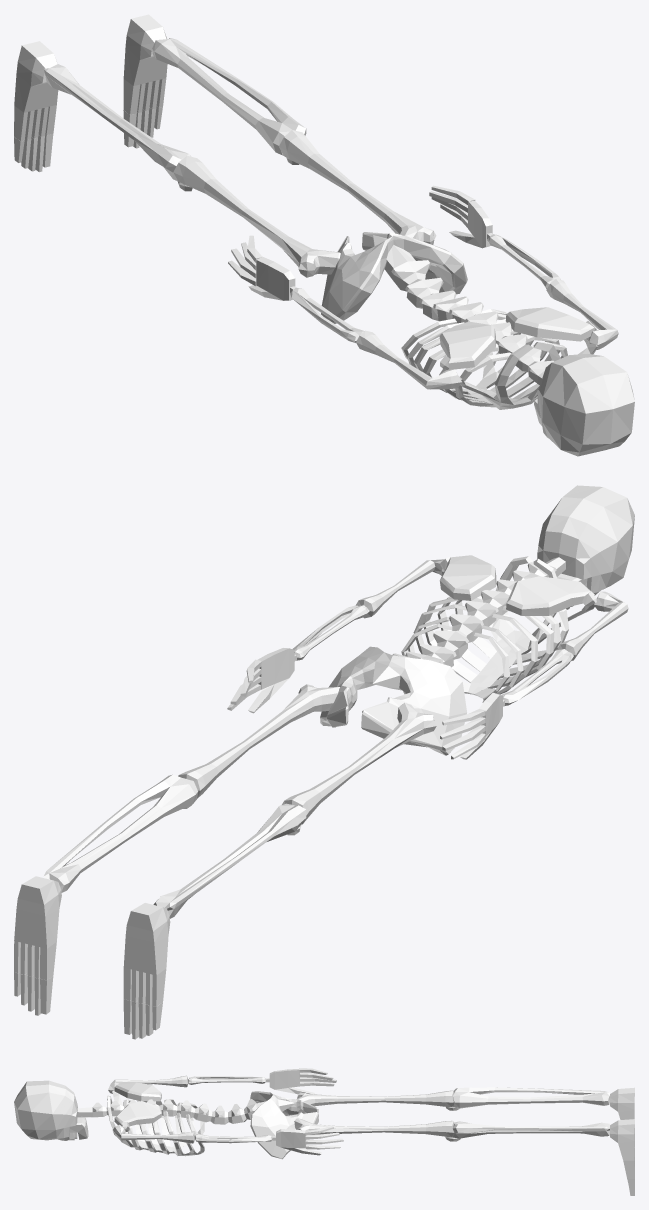
The model's file is skeleton_wtf.obj.
3 views of the same model, one above another, from view 1: azimuth 30°, elevation 25°; view 2: azimuth 150°, elevation 25°; view 3: azimuth 270°, elevation 25° (orthographic). The views are drawn at different scales.
Visible parts, largest first — view 1: group2; view 2: group2; view 3: group2.
Part boxes in pixels (left/top/right/bottom): group2: left=14, top=14, right=634, bottom=456; group2: left=14, top=485, right=634, bottom=1039; group2: left=14, top=1068, right=634, bottom=1195.
Bounding box in the file's own units: 167 × 113 × 660.
